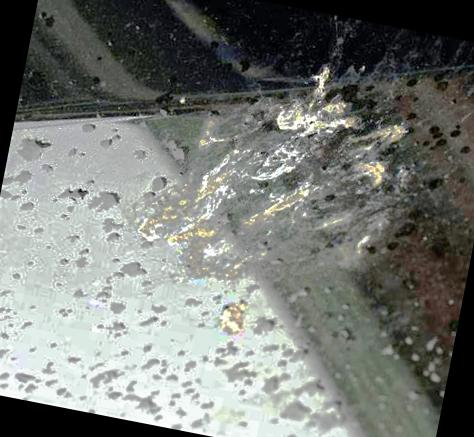Bird Poop: (138, 68, 412, 278), (221, 301, 247, 334)
